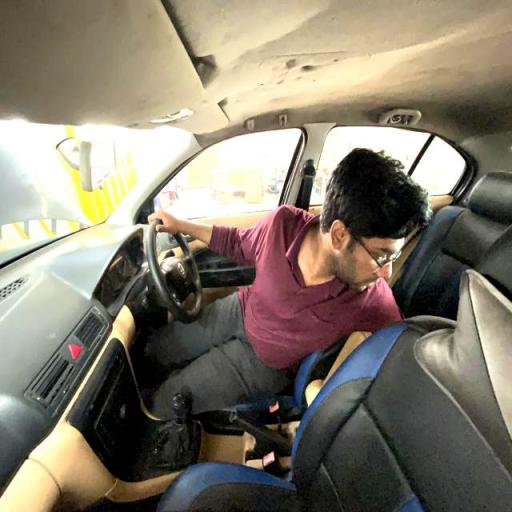Reaching_behind: (137, 147, 434, 426)
